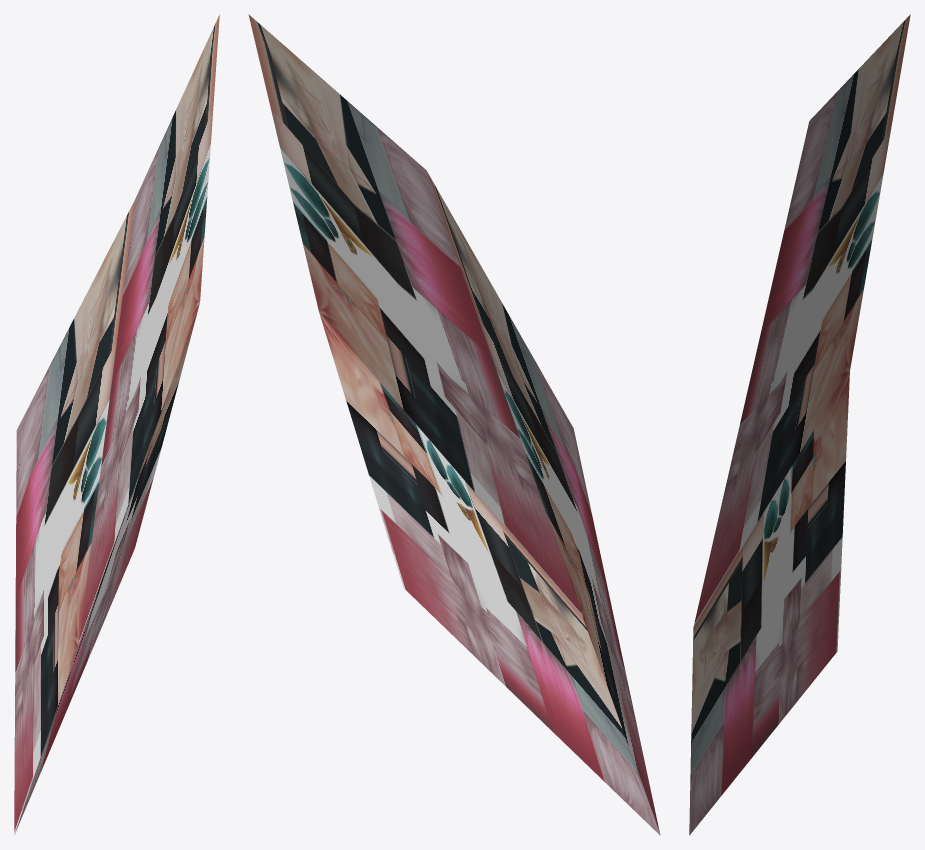
Rendered from judithWing.fbx.
3 renders of one model, left to right at view 1: azimuth 30°, elevation 25°; view 2: azimuth 150°, elevation 25°; view 3: azimuth 270°, elevation 25°, orthographic. The views are drawn at different scales.
Visible parts, largest first — view 1: judithWing; view 2: judithWing; view 3: judithWing.
Part boxes in pixels (box(x1,y1,x2,y2)): judithWing: box(14, 15, 219, 834); judithWing: box(248, 14, 660, 835); judithWing: box(689, 14, 910, 835).
Bounding box in the file's own units: 0.351 × 0.8329 × 0.1634.
